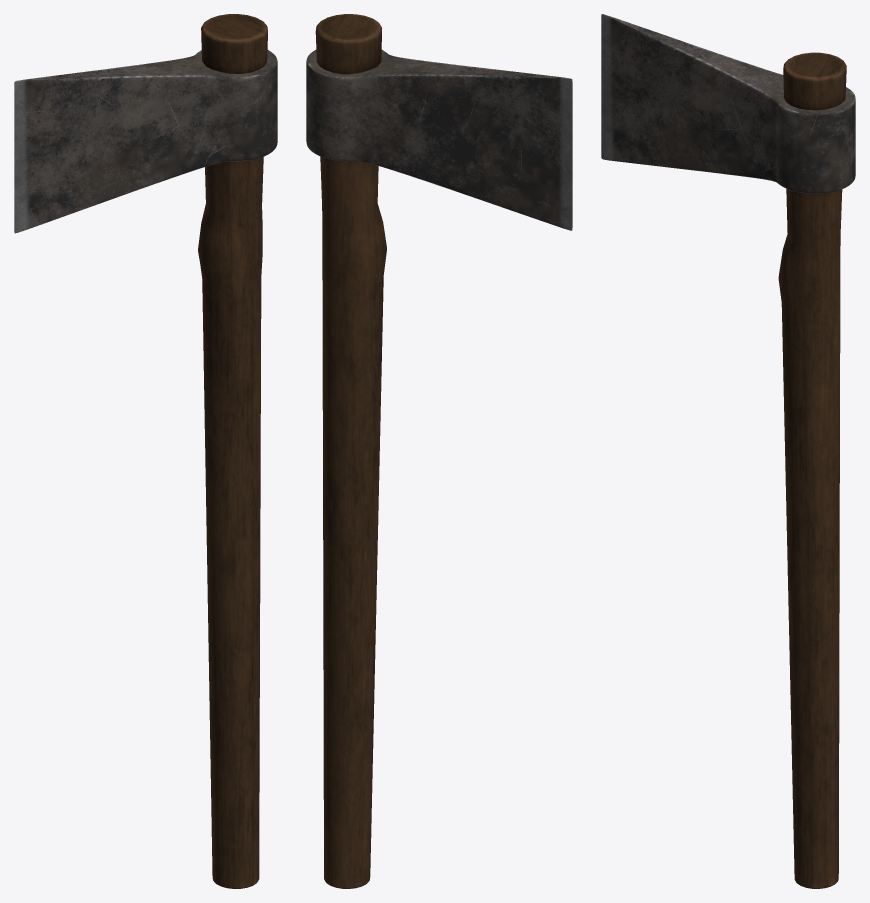
Rendered from w_hacha_vieja.glb.
3 views of the same model, side by side, from view 1: azimuth 30°, elevation 25°; view 2: azimuth 150°, elevation 25°; view 3: azimuth 330°, elevation 25° (orthographic). The views are drawn at different scales.
Visible parts, largest first — view 1: w_hacha_vieja; view 2: w_hacha_vieja; view 3: w_hacha_vieja.
Part boxes in pixels (left/top/right/bottom): w_hacha_vieja: left=14, top=14, right=277, bottom=888; w_hacha_vieja: left=306, top=14, right=572, bottom=888; w_hacha_vieja: left=601, top=14, right=855, bottom=888.
Bounding box in the file's own units: 0.3016 × 0.95 × 0.0858.
2 materials, 2 textured.
